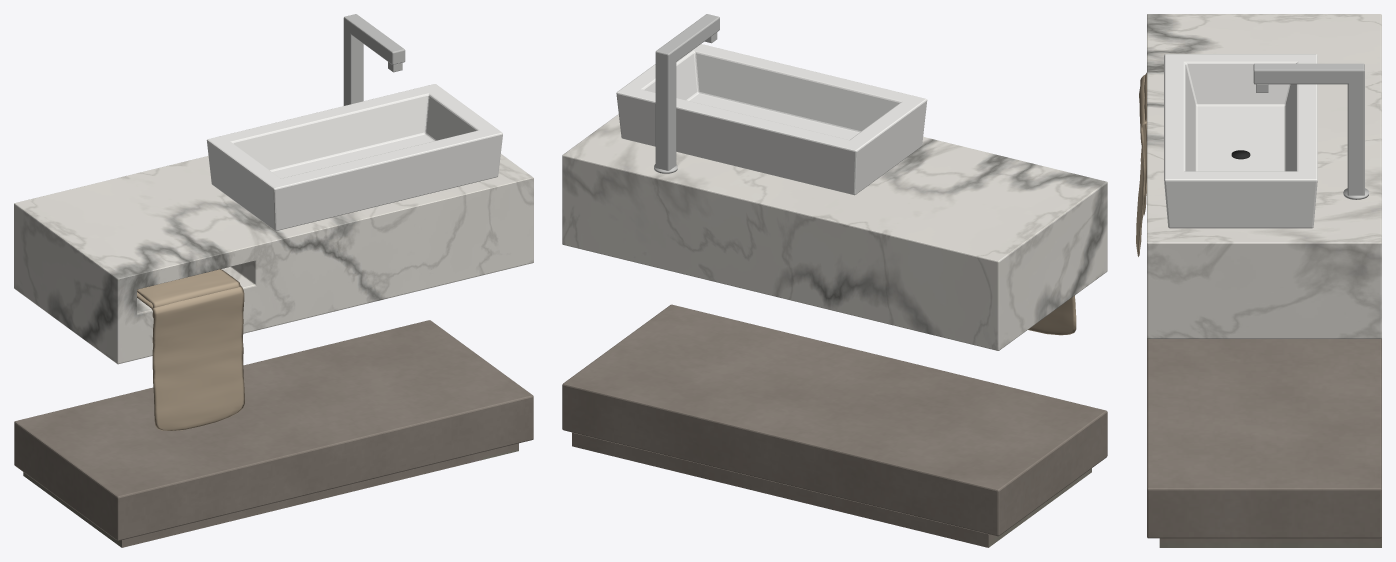
The model's file is design2.glb.
The picture shows the model from 3 angles, left to right: view 1: azimuth 30°, elevation 25°; view 2: azimuth 150°, elevation 25°; view 3: azimuth 270°, elevation 25°; orthographic projection. The views are drawn at different scales.
Visible parts, largest first — view 1: Table_127x55_P57, Counter_127x55_P66, Upwash_Basin, Towel_Front, Table_Plinth, Towel_Inner, Faucet_Column, Faucet_Spout; view 2: Counter_127x55_P66, Table_127x55_P57, Upwash_Basin, Table_Plinth, Faucet_Column, Faucet_Spout, Towel_Front; view 3: Table_127x55_P57, Counter_127x55_P66, Upwash_Basin, Faucet_Column, Table_Plinth, Faucet_Spout, Towel_Front.
Boxes of the visible parts, x1,y1,x2,y2 form: Table_127x55_P57: (14, 320, 533, 540); Counter_127x55_P66: (14, 154, 533, 364); Upwash_Basin: (206, 84, 502, 230); Towel_Front: (137, 285, 244, 430); Table_Plinth: (23, 443, 518, 547); Towel_Inner: (137, 269, 240, 317); Faucet_Column: (343, 14, 363, 105); Faucet_Spout: (347, 18, 405, 64); Counter_127x55_P66: (562, 114, 1107, 350); Table_127x55_P57: (562, 304, 1107, 536); Upwash_Basin: (616, 44, 927, 195); Table_Plinth: (572, 432, 1091, 547); Faucet_Column: (655, 46, 676, 170); Faucet_Spout: (663, 14, 719, 61); Towel_Front: (1028, 295, 1076, 335); Table_127x55_P57: (1147, 338, 1381, 538); Counter_127x55_P66: (1147, 14, 1381, 338); Upwash_Basin: (1164, 54, 1317, 228); Faucet_Column: (1347, 63, 1364, 195); Table_Plinth: (1159, 537, 1381, 547); Faucet_Spout: (1253, 63, 1354, 84); Towel_Front: (1136, 75, 1146, 256).
Bounding box in the file's own units: 1.27 × 1.13 × 0.5754.
Materials: 7 (3 with a texture image).
